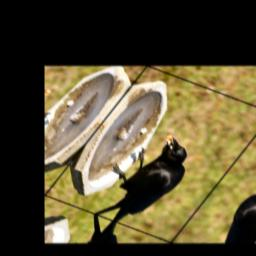Crow: (79, 125, 207, 231)
